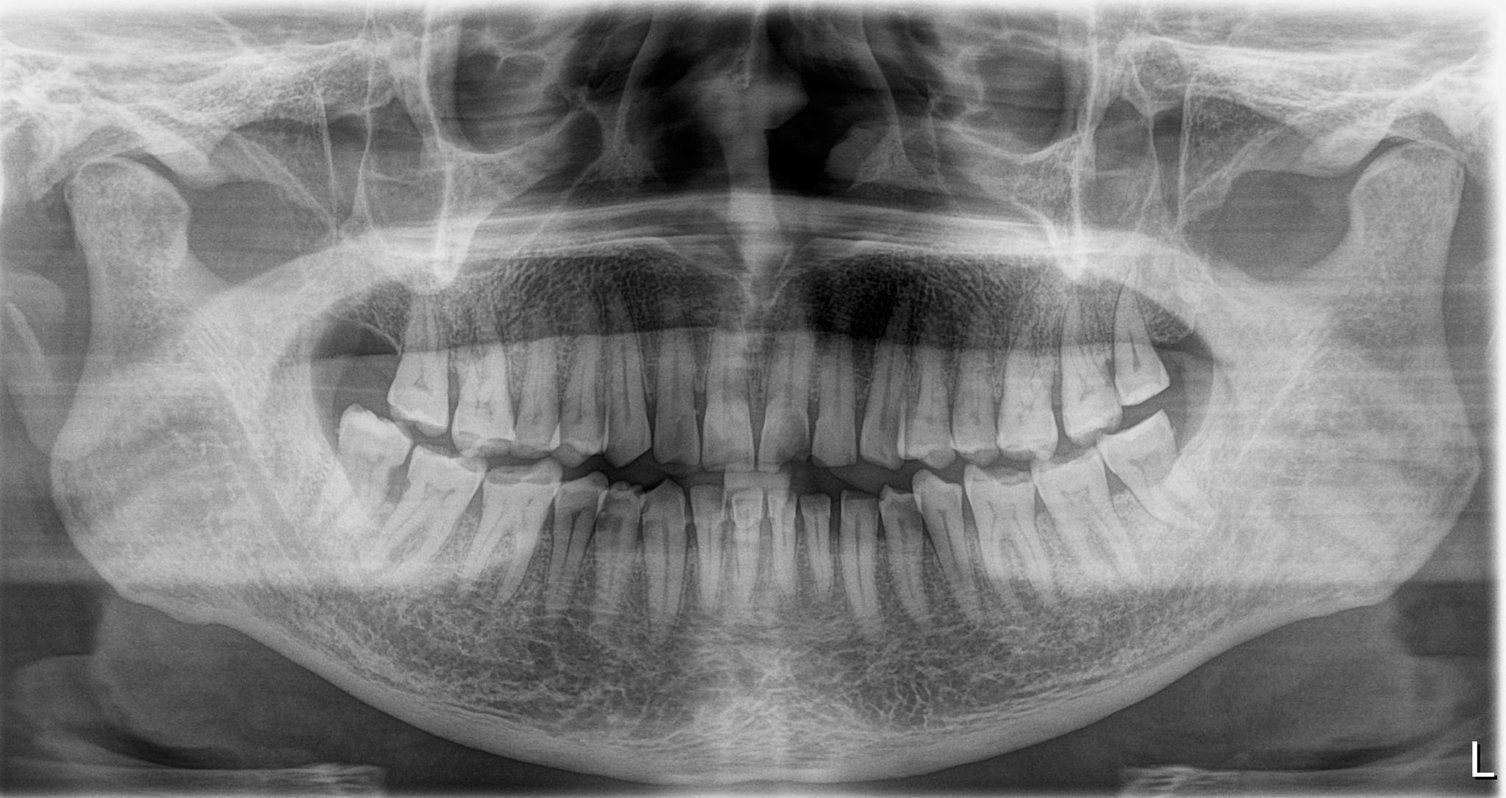Dental Caries: (588, 511, 635, 545), (382, 463, 413, 510)
Impacted Third Molar: (1105, 418, 1220, 531), (322, 406, 410, 523)
Missing Tooth: (336, 299, 393, 390)
